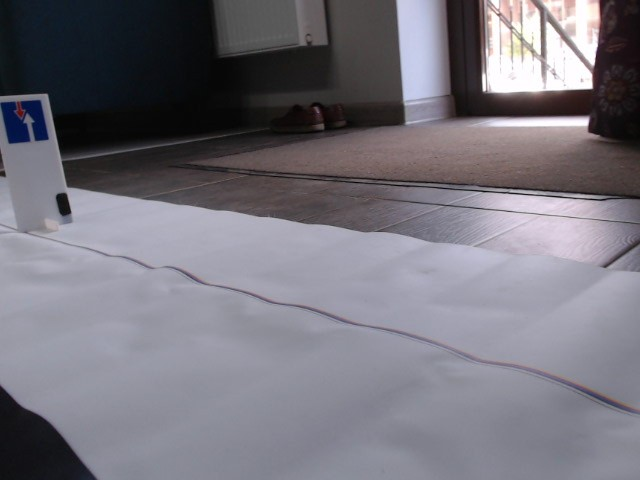priority_movement: (1, 98, 50, 144)
